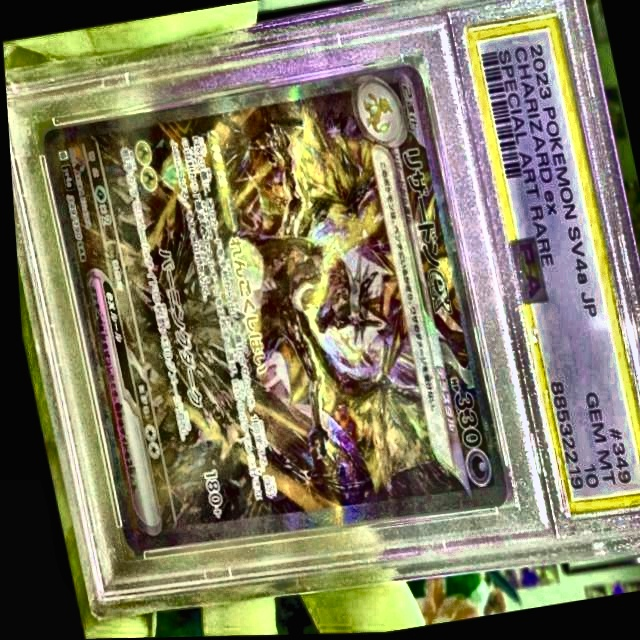card: (40, 66, 500, 553)
